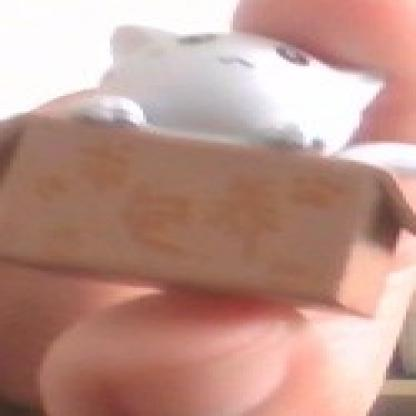not trash: (3, 19, 416, 316)
